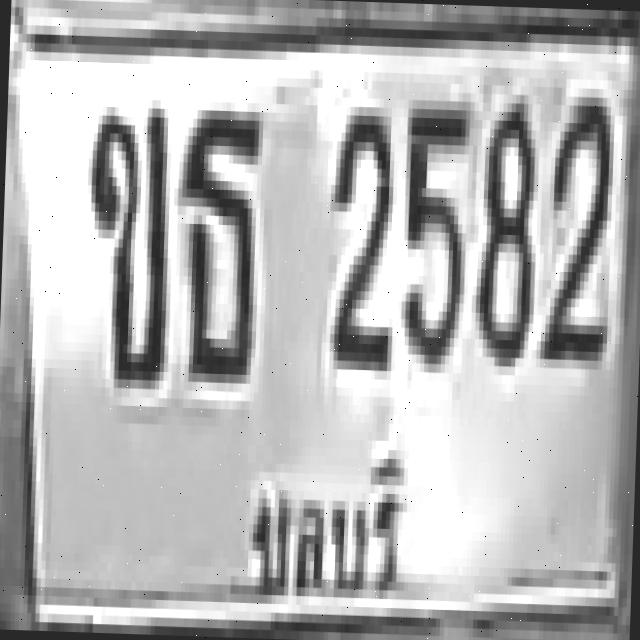11KhorKhai: (80, 97, 168, 380)
2: (536, 91, 611, 356), (324, 97, 392, 362)
33ThorThong: (172, 100, 260, 375)
5: (396, 90, 466, 364)
8: (469, 93, 536, 358)
Chonburi: (241, 426, 420, 612)
